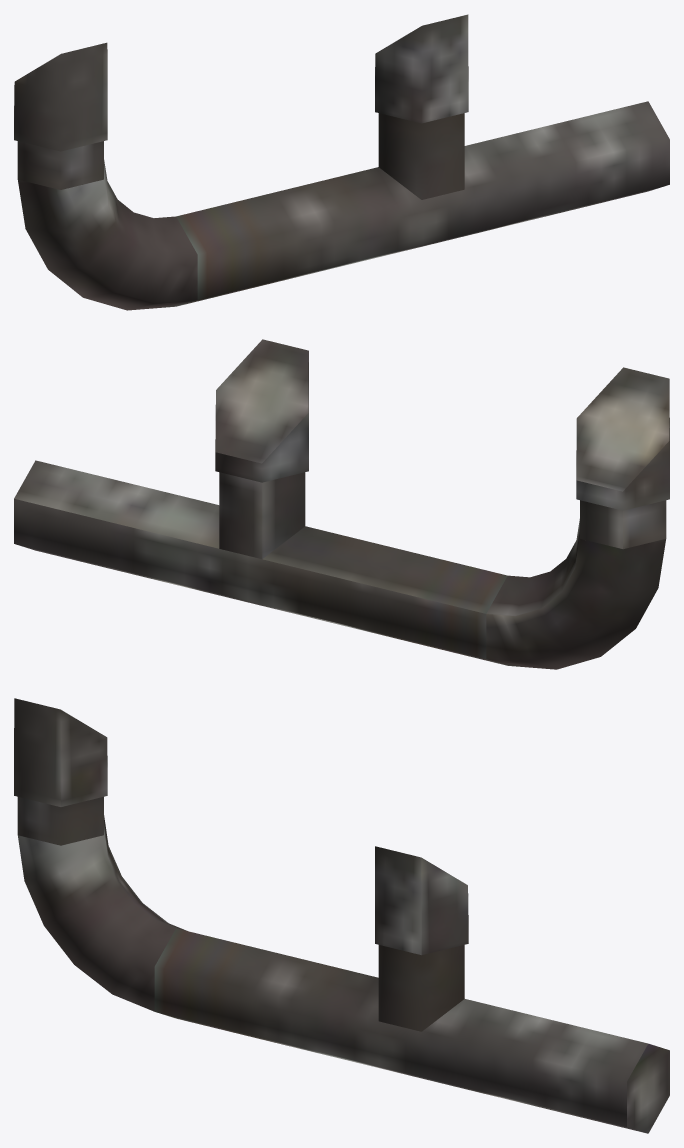
File: ThickPipe_01.FBX
3 renders of one model, top to bottom at view 1: azimuth 30°, elevation 25°; view 2: azimuth 150°, elevation 25°; view 3: azimuth 330°, elevation 25°, orthographic.
Visible parts, largest first — view 1: ThickPipe_01; view 2: ThickPipe_01; view 3: ThickPipe_01.
Boxes of the visible parts, x1=… form: ThickPipe_01: x1=14, y1=14, x2=669, y2=310; ThickPipe_01: x1=14, y1=339, x2=669, y2=669; ThickPipe_01: x1=14, y1=698, x2=669, y2=1133.
Bounding box in the file's own units: 177 × 80.79 × 22.59.
